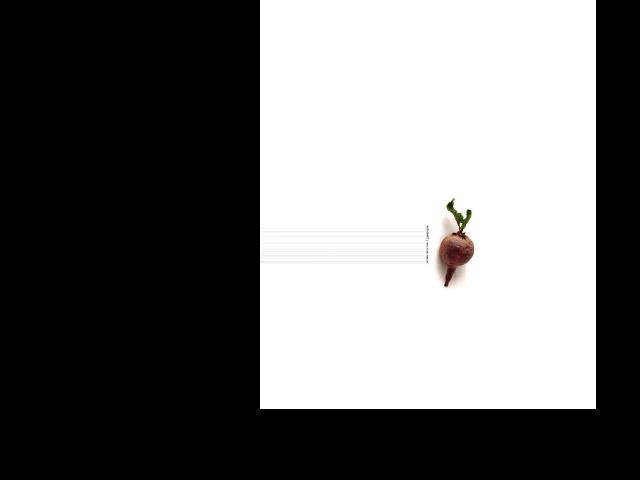beet: (439, 198, 473, 285)
